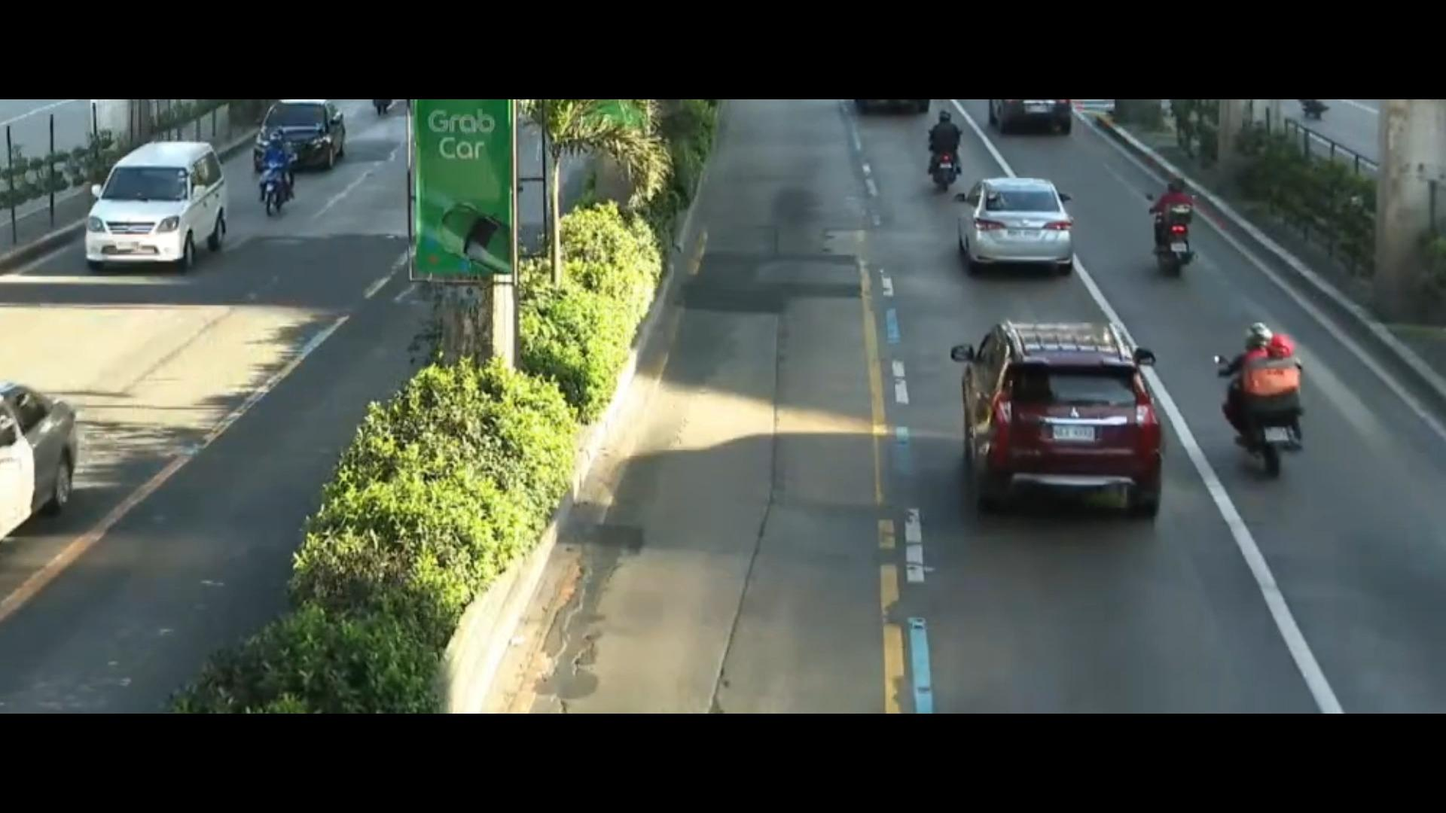Motorcycle: (1219, 296, 1320, 470), (1140, 162, 1217, 279), (911, 104, 989, 188), (265, 125, 322, 212)
SUV: (940, 307, 1161, 539), (64, 132, 239, 283)
Sedan: (0, 364, 110, 549), (944, 166, 1072, 266), (239, 94, 362, 169)
